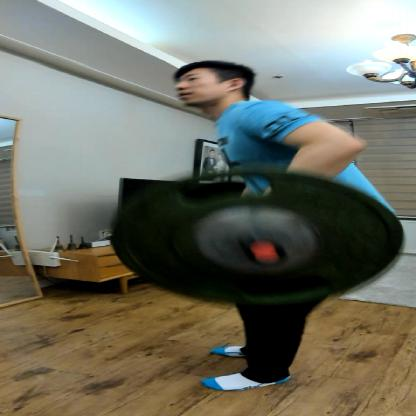Barbell: (87, 160, 414, 318)
